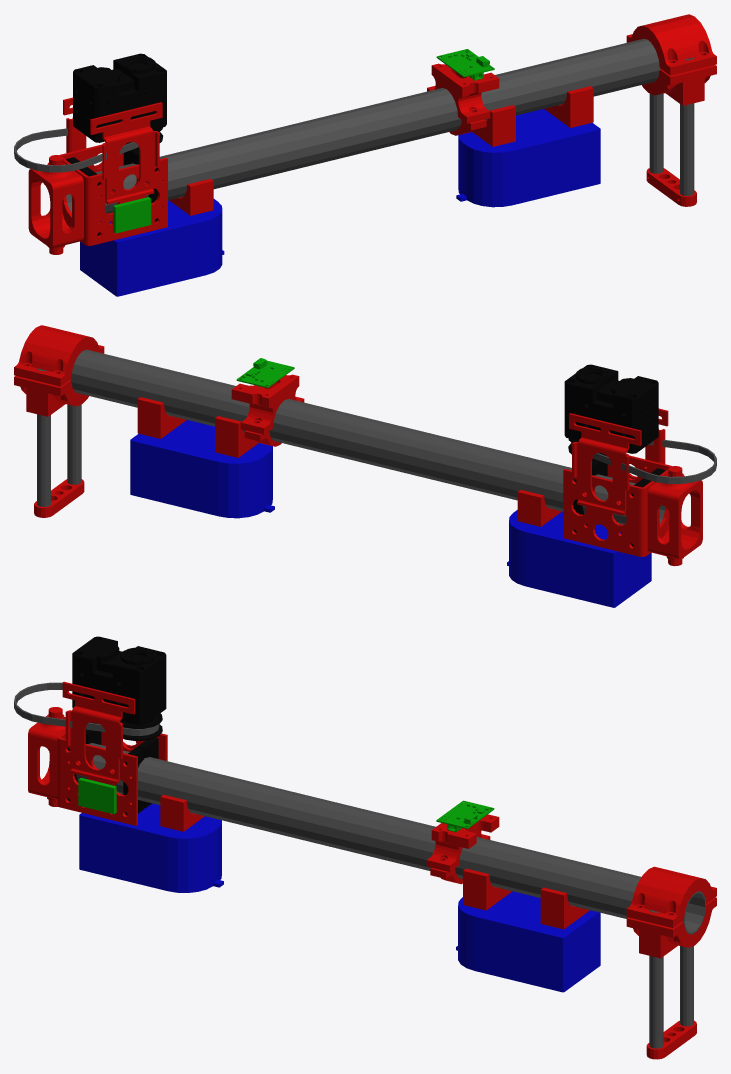
Rendered from ducted_fan_end_link.dae.
3 views of the same model, one above another, from view 1: azimuth 30°, elevation 25°; view 2: azimuth 150°, elevation 25°; view 3: azimuth 330°, elevation 25° (orthographic).
Parts seen in each view (by area): view 1: Black_Nonmetal, Red, Blue, Black_Metal, Green; view 2: Red, Black_Nonmetal, Blue, Black_Metal, Green; view 3: Black_Nonmetal, Red, Blue, Black_Metal, Green.
Part boxes in pixels (bbox=[...]): Black_Nonmetal: bbox=[14, 38, 694, 213]; Red: bbox=[28, 14, 716, 254]; Blue: bbox=[80, 109, 600, 296]; Black_Metal: bbox=[66, 53, 166, 235]; Green: bbox=[113, 49, 494, 233]; Red: bbox=[14, 325, 702, 566]; Black_Nonmetal: bbox=[37, 349, 716, 524]; Blue: bbox=[130, 420, 651, 607]; Black_Metal: bbox=[564, 364, 664, 546]; Green: bbox=[236, 358, 294, 388]; Black_Nonmetal: bbox=[14, 682, 705, 1048]; Red: bbox=[28, 681, 716, 1059]; Blue: bbox=[79, 803, 600, 992]; Black_Metal: bbox=[67, 636, 166, 815]; Green: bbox=[78, 777, 494, 832].
Size of the model in its own units: 0.4355 by 0.049 by 0.1595.
